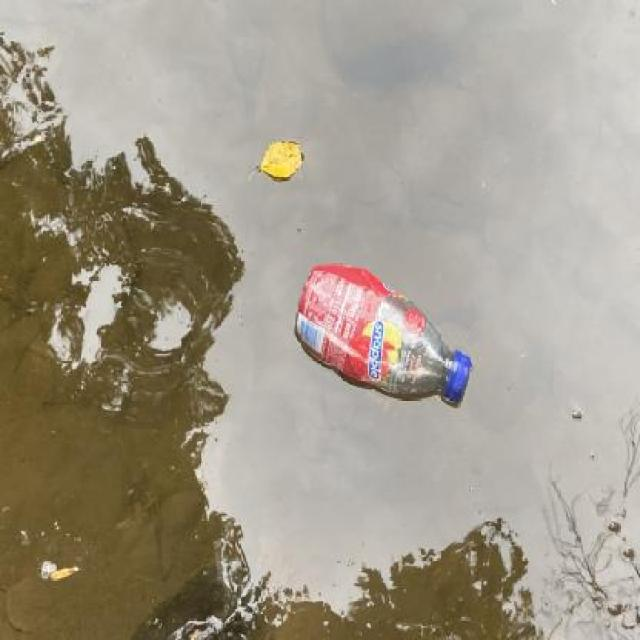Plastic: (286, 246, 480, 409)
